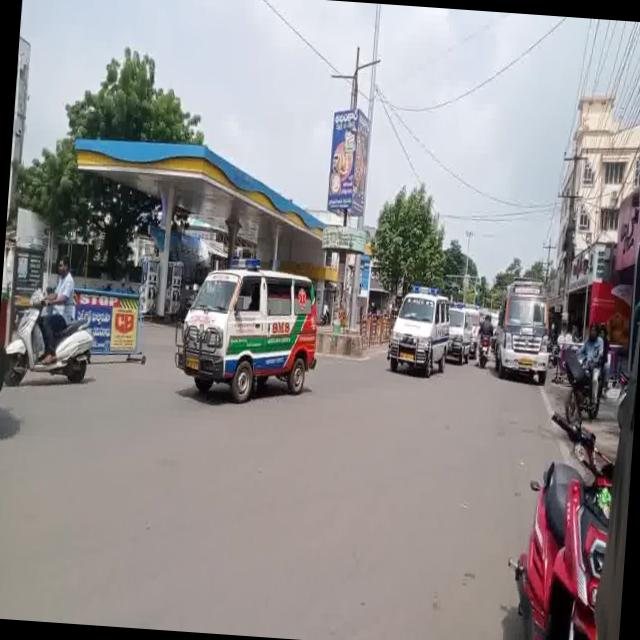ambulance: (168, 245, 334, 419), (378, 274, 448, 372), (499, 270, 554, 392), (448, 292, 481, 382)
